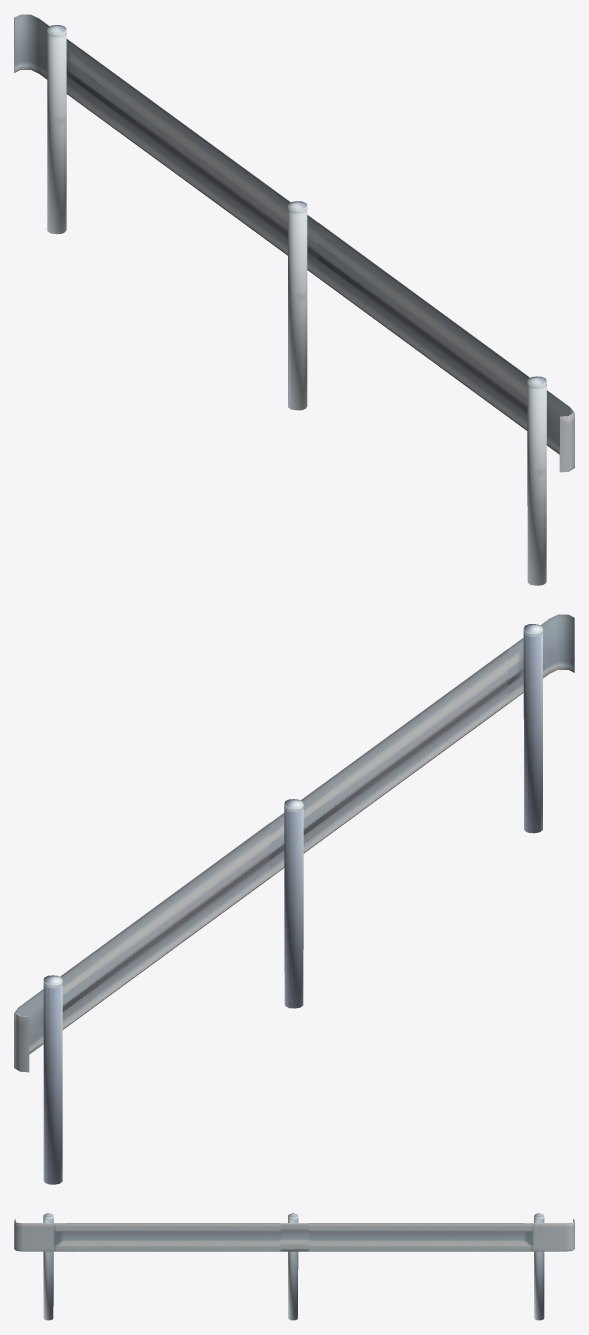
File: RoadProp_GuardRail_01b.fbx
3 views of the same model, one above another, from view 1: azimuth 30°, elevation 25°; view 2: azimuth 150°, elevation 25°; view 3: azimuth 270°, elevation 25° (orthographic). The views are drawn at different scales.
Visible parts, largest first — view 1: RoadProp_GuardRail_01b; view 2: RoadProp_GuardRail_01b; view 3: RoadProp_GuardRail_01b.
Boxes of the visible parts, bbox=[...] form: RoadProp_GuardRail_01b: bbox=[14, 14, 574, 585]; RoadProp_GuardRail_01b: bbox=[14, 614, 574, 1184]; RoadProp_GuardRail_01b: bbox=[14, 1213, 574, 1320].
Bounding box in the file's own units: 0.1139 × 1.19 × 5.82.
